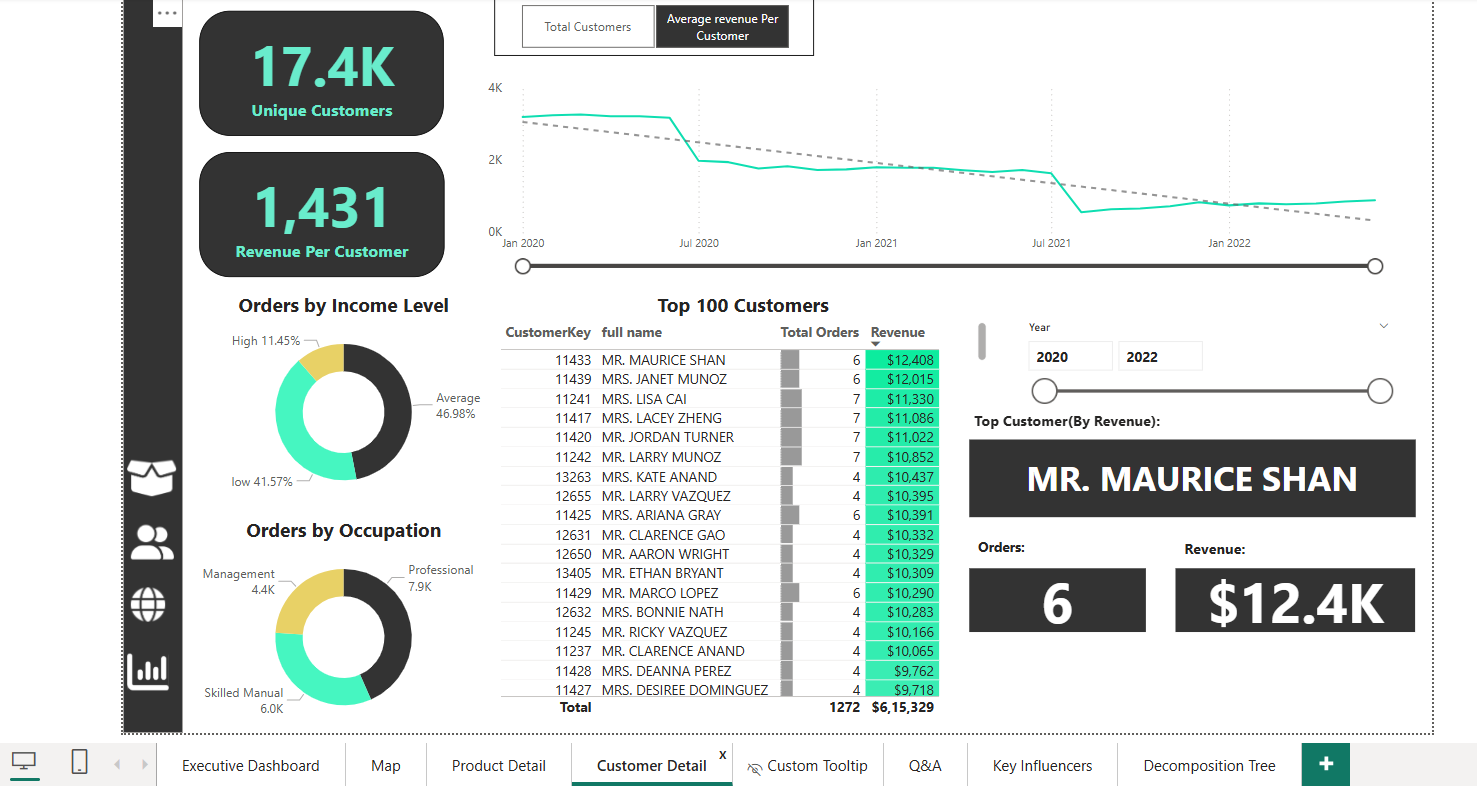

What the dashboard file says about the page in this screenshot:
{"tool":"powerbi","page":{"name":"Customer Detail","canvas":[1280,720],"ordinal":3},"visuals":[{"type":"shape","box":[0,0,58.7,720.2],"z":0},{"type":"actionButton","box":[0,635.9,58.7,48.9],"z":1000},{"type":"actionButton","box":[3.7,573.5,50.1,41.6],"z":2000},{"type":"actionButton","box":[3.7,507.5,50.1,51.4],"z":3000},{"type":"actionButton","box":[0,442.7,58.7,56.3],"z":4000},{"type":"card","fields":{"Values":["Measure Table.Total Customers"]},"box":[75,13,239.5,122.6],"z":5000},{"type":"card","fields":{"Values":["Measure Table.Average revenue Per Customer"]},"box":[74.6,151.6,239.7,122.3],"z":6000},{"type":"donutChart","title":" Orders by Income Level","fields":{"Category":["Customer Lookup.Income Level"],"Y":["Measure Table.Total Orders"]},"box":[59.2,288.6,314.5,210.6],"z":7000},{"type":"donutChart","title":" Orders by Occupation","fields":{"Y":["Measure Table.Total Orders"],"Category":["Customer Lookup.Occupation"]},"box":[59.2,509.3,314.5,210.6],"z":8000},{"type":"tableEx","title":"Top 100 Customers ","fields":{"Values":["Customer Lookup.CustomerKey","Customer Lookup.full name","Measure Table.Total Orders","Measure Table.Revenue"]},"box":[363.2,288.6,486.7,419.4],"z":9000},{"type":"slicer","title":"Year","fields":{"Values":["Calendar Lookup.Year"]},"box":[873.1,311.8,377.9,90.5],"z":10000},{"type":"card","fields":{"Values":["Customer Lookup.full name"]},"box":[827.9,432.9,436.6,75.8],"z":11000},{"type":"textbox","box":[827.9,399.9,377.9,31.8],"z":12000},{"type":"card","fields":{"Values":["Measure Table.Total Orders"]},"box":[827.9,558.8,172.4,62.4],"z":13000},{"type":"textbox","box":[827.7,526.2,287.3,32.7],"z":14000},{"type":"card","fields":{"Values":["Measure Table.Revenue"]},"box":[1029.7,558.9,234.7,62.6],"z":15000},{"type":"textbox","box":[831.5,523.4,116.2,35.5],"z":16000},{"type":"textbox","box":[1033.3,524.6,144.3,33],"z":17000},{"type":"slicer","fields":{"Values":["Customer Metrics .Customer Metrics "]},"box":[363.2,0,313,57.5],"z":18000},{"type":"lineChart","fields":{"Y":["Measure Table.Average revenue Per Customer"],"Category":["Calendar Lookup.Year","Calendar Lookup.Start of Month","Calendar Lookup.Start of Week","Calendar Lookup.Date"]},"box":[352.2,74.6,898.8,199.3],"z":19000}]}

Visuals, with their boxes on the page's 1280x720 design canvas (x1, y1, x2, y2). These are canvas units, not pixel positions in the 1477x786 screenshot, which may show the page scaled, cropped or inside an application window:
shape: [left=0, top=0, right=59, bottom=720]
actionButton: [left=0, top=636, right=59, bottom=685]
actionButton: [left=4, top=574, right=54, bottom=615]
actionButton: [left=4, top=508, right=54, bottom=559]
actionButton: [left=0, top=443, right=59, bottom=499]
card - Measure Table.Total Customers: [left=75, top=13, right=314, bottom=136]
card - Measure Table.Average revenue Per Customer: [left=75, top=152, right=314, bottom=274]
" Orders by Income Level" donutChart: [left=59, top=289, right=374, bottom=499]
" Orders by Occupation" donutChart: [left=59, top=509, right=374, bottom=720]
"Top 100 Customers " tableEx: [left=363, top=289, right=850, bottom=708]
"Year" slicer: [left=873, top=312, right=1251, bottom=402]
card - Customer Lookup.full name: [left=828, top=433, right=1264, bottom=509]
textbox: [left=828, top=400, right=1206, bottom=432]
card - Measure Table.Total Orders: [left=828, top=559, right=1000, bottom=621]
textbox: [left=828, top=526, right=1115, bottom=559]
card - Measure Table.Revenue: [left=1030, top=559, right=1264, bottom=622]
textbox: [left=832, top=523, right=948, bottom=559]
textbox: [left=1033, top=525, right=1178, bottom=558]
slicer - Customer Metrics .Customer Metrics : [left=363, top=0, right=676, bottom=58]
lineChart - Measure Table.Average revenue Per Customer x Calendar Lookup.Year: [left=352, top=75, right=1251, bottom=274]
